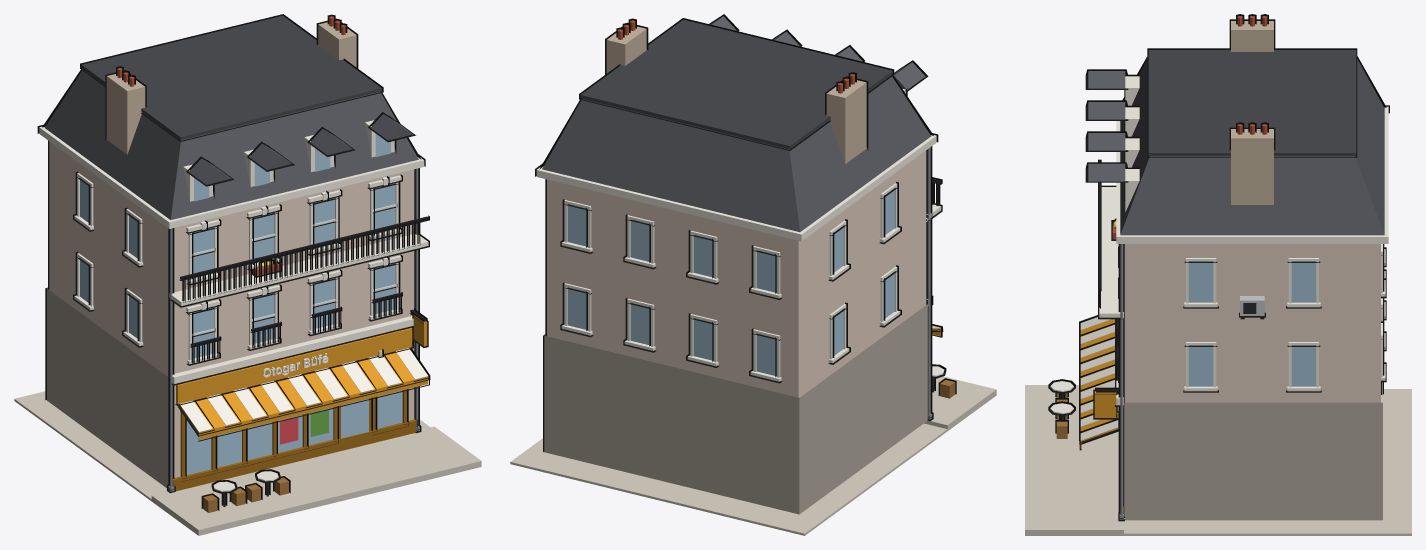
The model's file is Dukkan_otogar_bufe.fbx.
3 renders of one model, left to right at view 1: azimuth 30°, elevation 25°; view 2: azimuth 150°, elevation 25°; view 3: azimuth 270°, elevation 25°, orthographic. The views are drawn at different scales.
Visible parts, largest first — view 1: Dukkan_otogar_bufe; view 2: Dukkan_otogar_bufe; view 3: Dukkan_otogar_bufe.
Part boxes in pixels (x1,y1,x2,y2): Dukkan_otogar_bufe: [14, 14, 481, 535]; Dukkan_otogar_bufe: [510, 14, 996, 535]; Dukkan_otogar_bufe: [1025, 14, 1411, 535].
Bounding box in the file's own units: 11.09 × 14.06 × 12.52.
